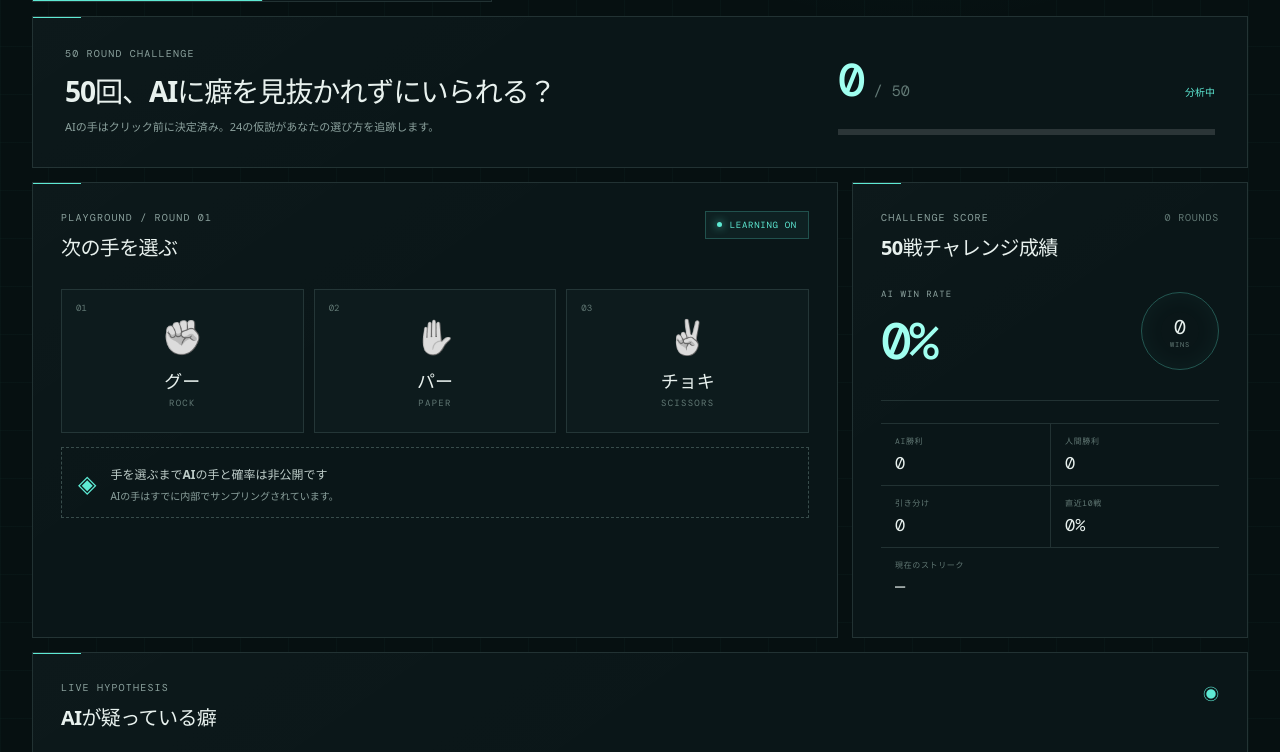
Test: You Are Not Random UI › reveals only the completed round distribution after a choice
This screenshot has width=1280, height=752.
(page scrolled)
Click the button with aria-label "パーを出す": {"x": 435, "y": 361} [314,289,556,433]
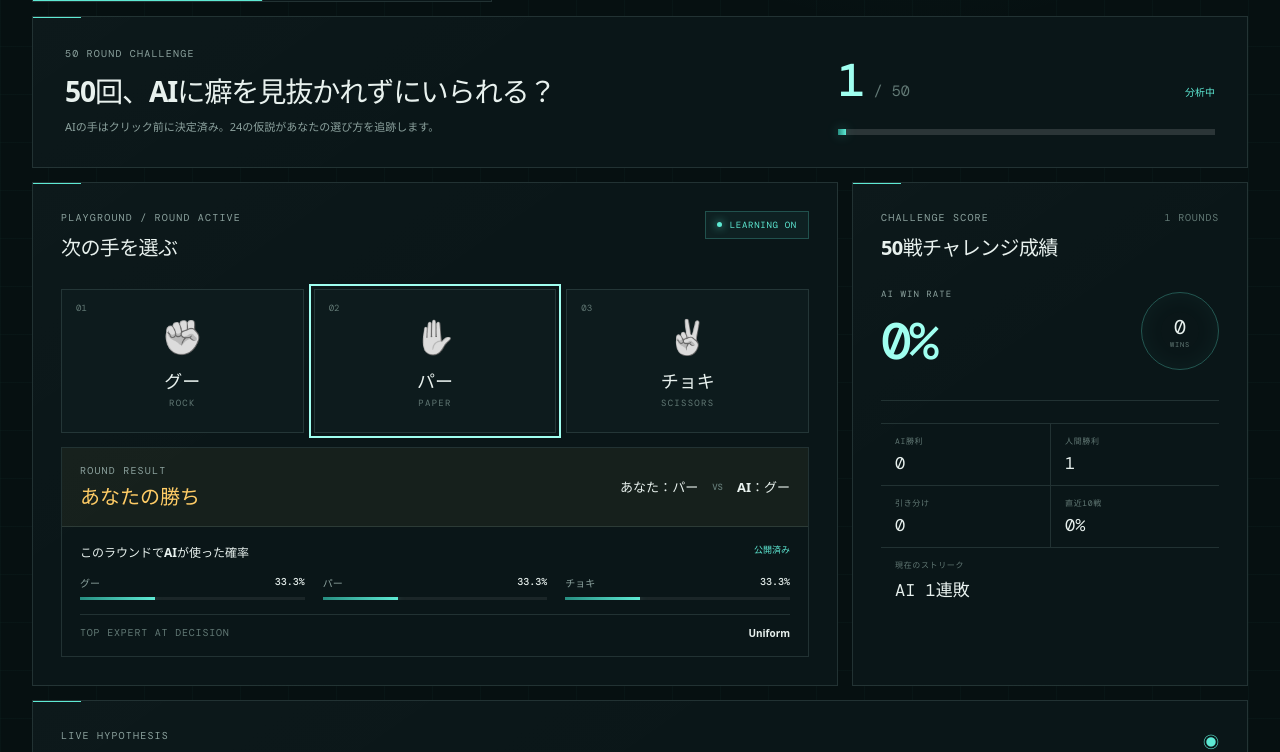
Expected: the heading "このラウンドでAIが使った確率" is shown, [80,543,249,561]
Expected: the message named "直近ラウンドの結果" shows "あなたの勝ち", [80,483,200,510]
Expected: the text "AI：グー" is shown, [737,477,790,496]
